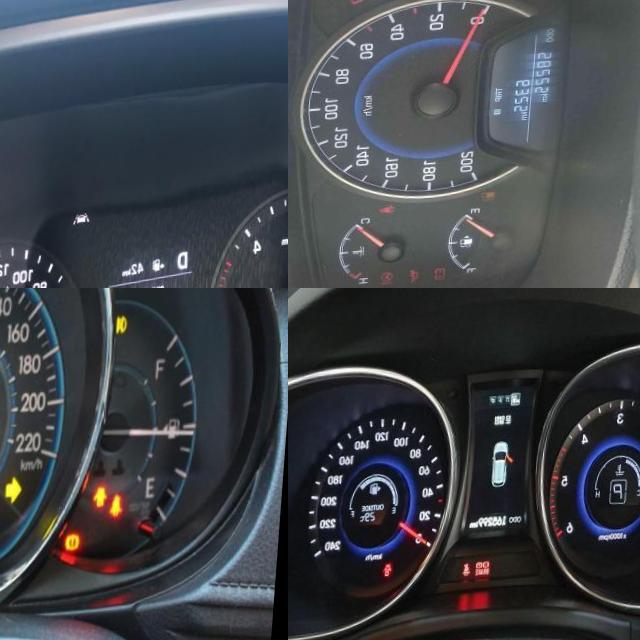Doors: (390, 565, 400, 579)
Seat Belt: (118, 501, 130, 525)
